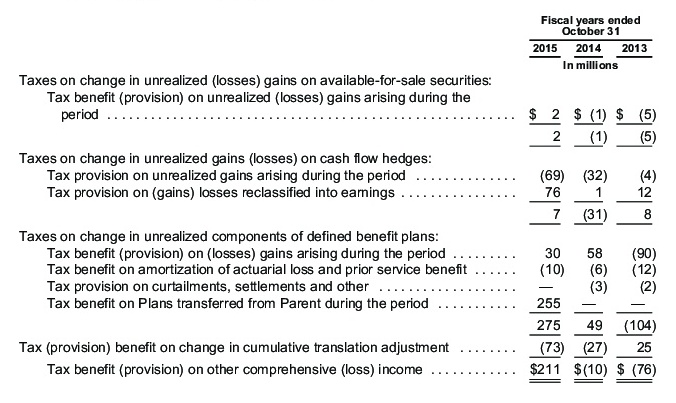table: (0, 0, 676, 403)
